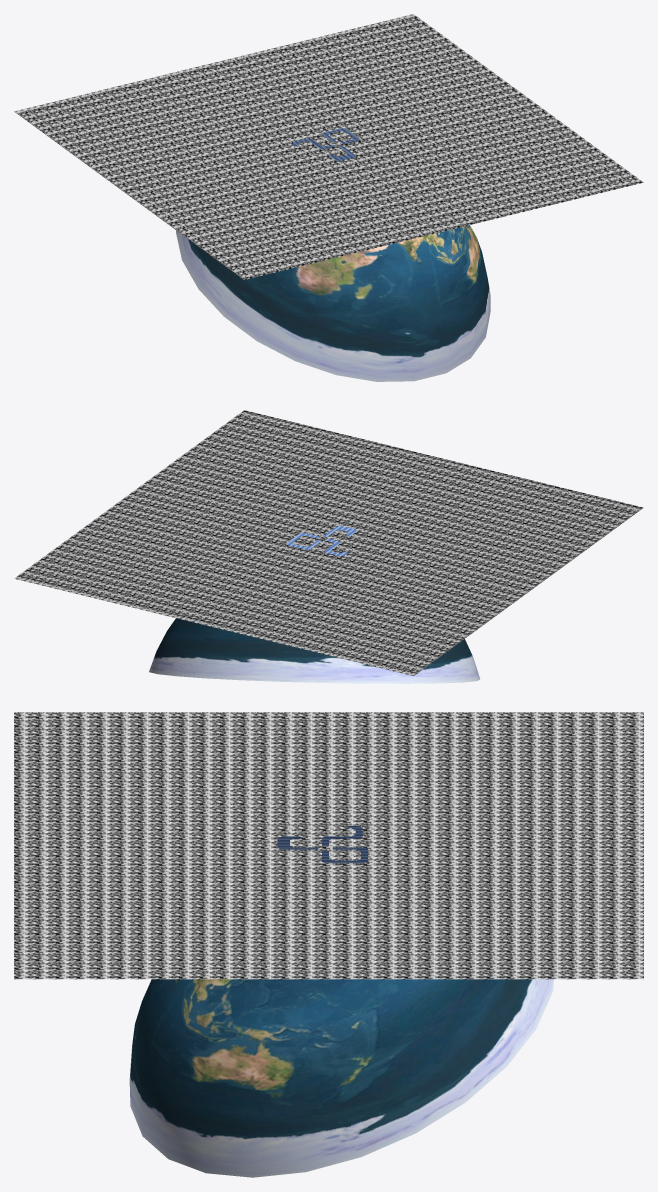
3 renders of one model, top to bottom at view 1: azimuth 30°, elevation 25°; view 2: azimuth 150°, elevation 25°; view 3: azimuth 270°, elevation 25°, orthographic. The views are drawn at different scales.
Visible parts, largest first — view 1: polygon272, polygon19.016, polygon100; view 2: polygon272, polygon19.016, polygon100; view 3: polygon272, polygon19.016, polygon100.
Part boxes in pixels (x1=…): polygon272: x1=14, y1=14, x2=643, y2=279; polygon19.016: x1=176, y1=225, x2=490, y2=381; polygon100: x1=292, y1=128, x2=359, y2=160; polygon272: x1=14, y1=410, x2=643, y2=675; polygon19.016: x1=149, y1=618, x2=479, y2=683; polygon100: x1=286, y1=525, x2=356, y2=556; polygon272: x1=14, y1=712, x2=643, y2=979; polygon19.016: x1=129, y1=979, x2=553, y2=1177; polygon100: x1=277, y1=826, x2=367, y2=863.
Bounding box in the file's own units: 473143 × 215208 × 472000.
3 materials, 3 textured.
